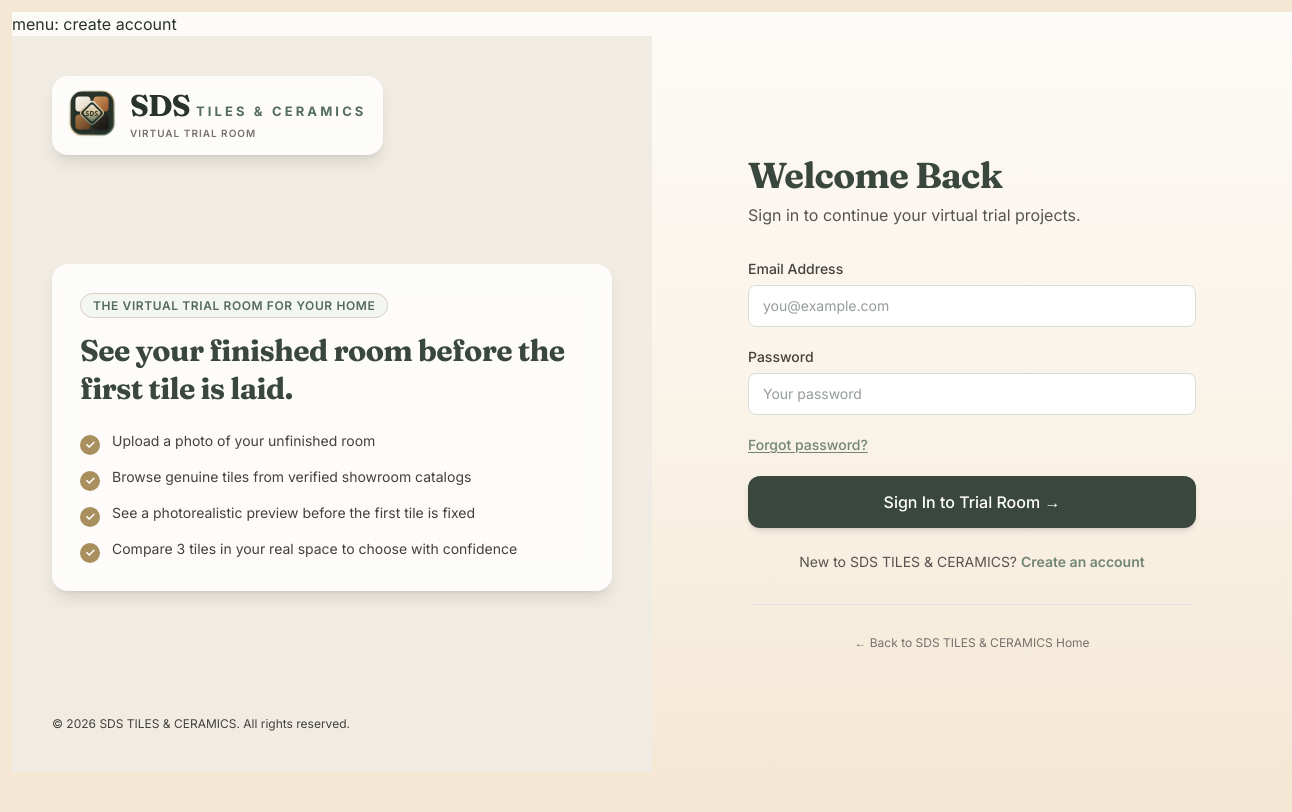
Test case: sign-in and accounts › 'Create a free account' while already on /login switches the form
The width and height of the screenshot is (1292, 812).
Expected: the heading "Welcome Back" is shown, [748, 153, 1002, 197]
Click the link "menu: create account": x=94, y=24 [12, 14, 177, 34]
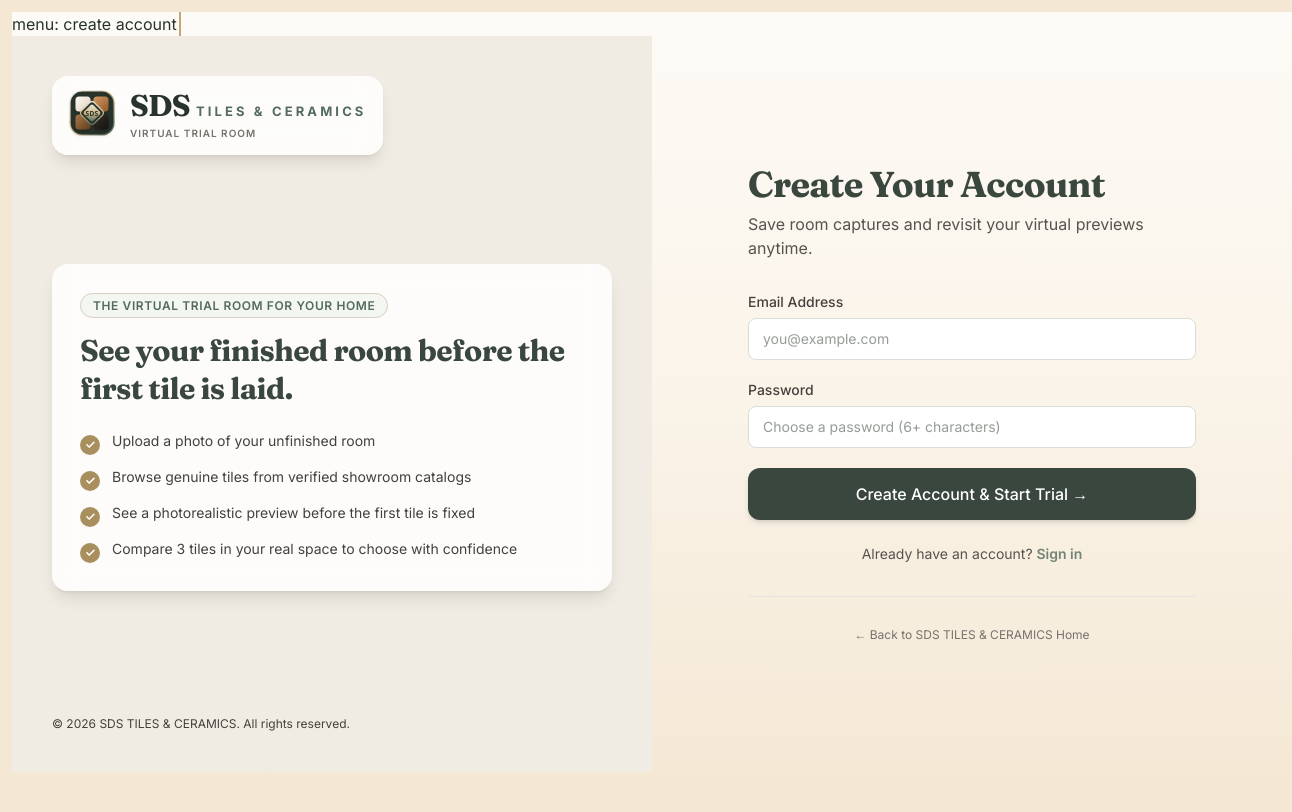
Expected: the heading "Create Your Account" is shown, [748, 162, 1105, 206]
